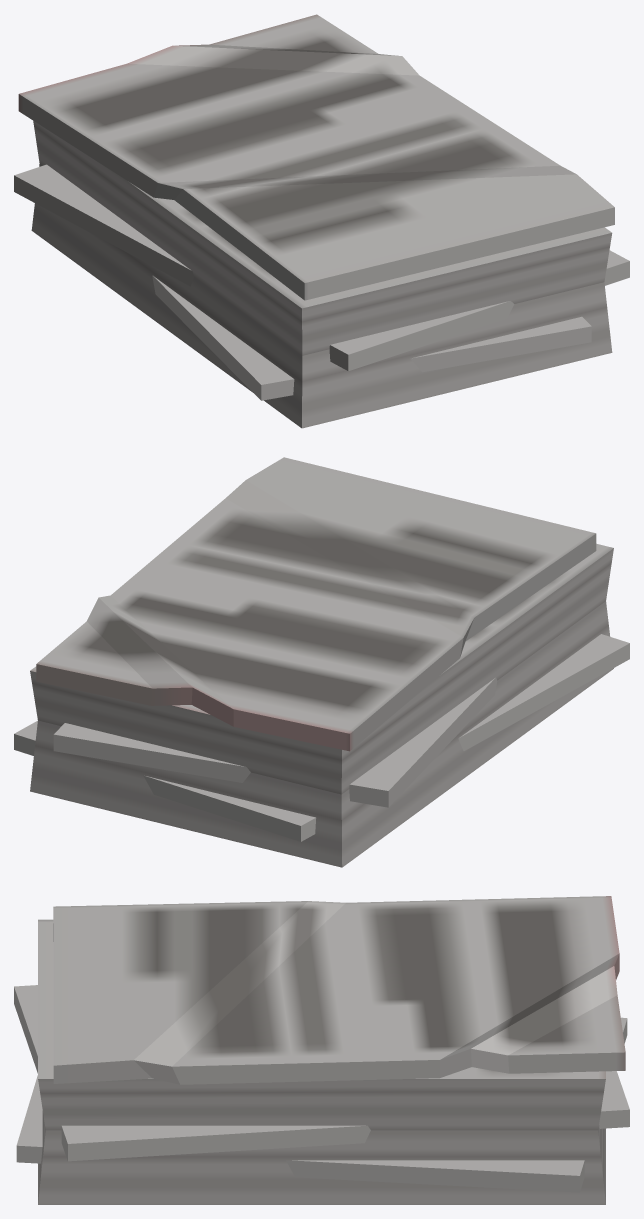
The model's file is SM_Prop_Paper_Pile_02.fbx.
3 renders of one model, top to bottom at view 1: azimuth 30°, elevation 25°; view 2: azimuth 150°, elevation 25°; view 3: azimuth 270°, elevation 25°, orthographic. The views are drawn at different scales.
Parts seen in each view (by area): view 1: SM_Prop_Paper_Pile_02; view 2: SM_Prop_Paper_Pile_02; view 3: SM_Prop_Paper_Pile_02.
Boxes of the visible parts, box(x1,y1,x2,y2) form: SM_Prop_Paper_Pile_02: box(14, 14, 629, 428); SM_Prop_Paper_Pile_02: box(14, 457, 629, 867); SM_Prop_Paper_Pile_02: box(14, 896, 629, 1204).
Bounding box in the file's own units: 26.66 × 9.99 × 36.17.
